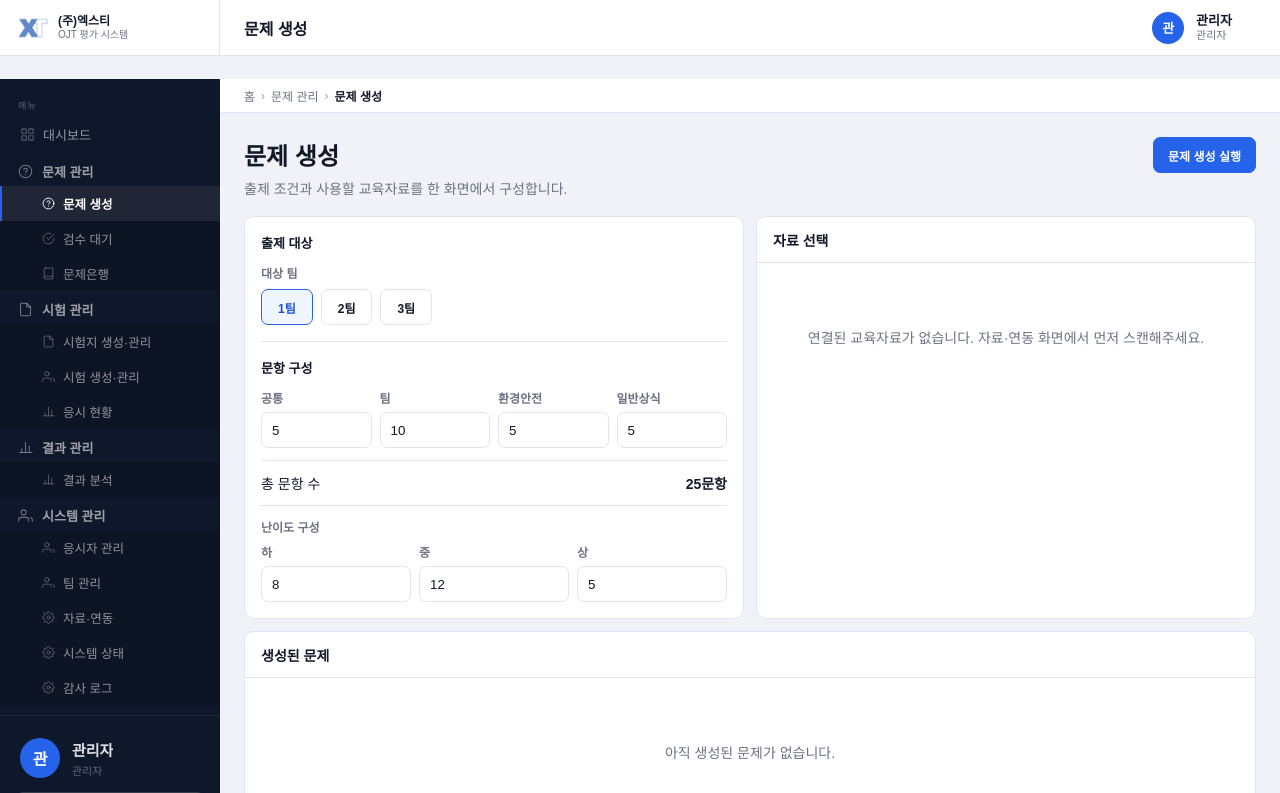
it: planned admin domain routes › flags a generated question that failed a gate as needing review
The image size is (1280, 793).
Click the button "문제 생성 실행": (1205, 155) top-left (1153, 137), bottom-right (1256, 173)
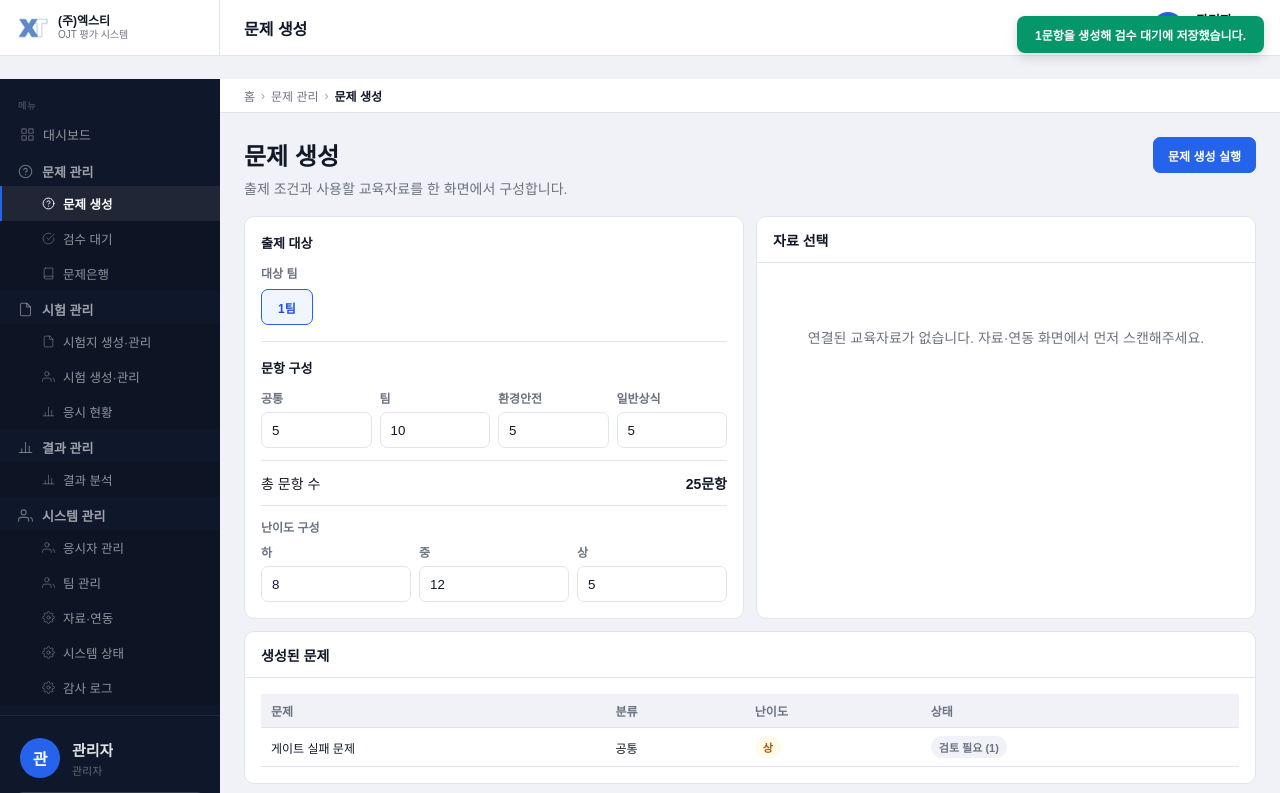
Expected: the text "게이트 실패 문제" is shown, top-left (261, 728), bottom-right (605, 766)
Expected: the text "검토 필요 (1)" is shown, top-left (931, 736), bottom-right (1007, 758)
